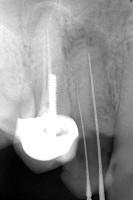Furcation Involvement: (63, 20, 110, 67)
